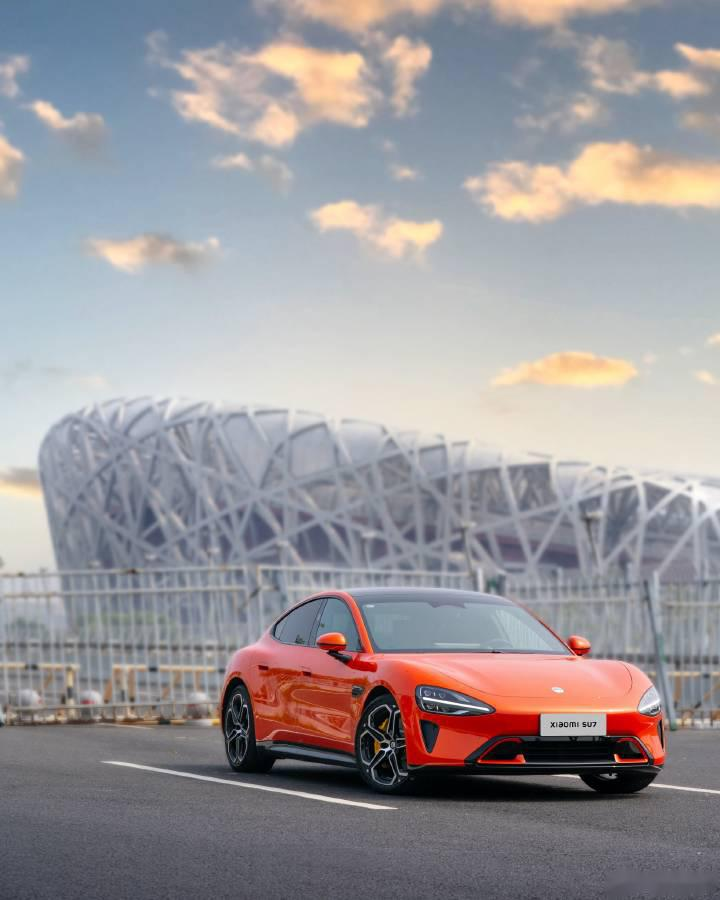su7: (217, 586, 669, 794)
